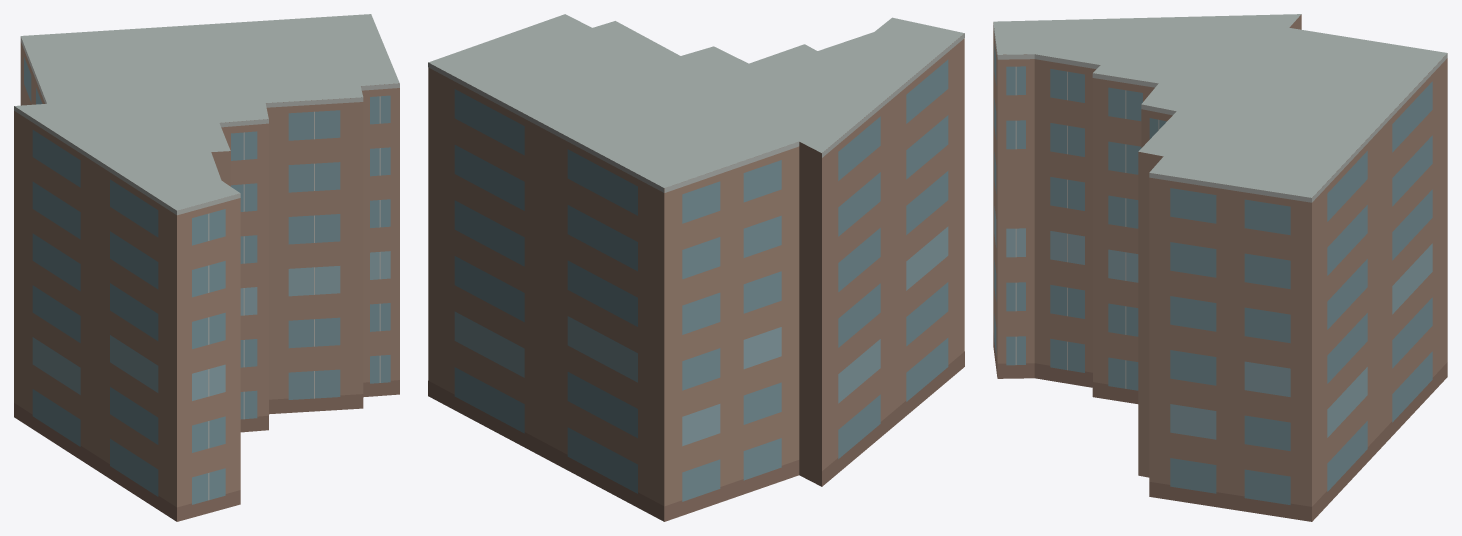
File: survey-upis-32673411.glb
3 views of the same model, side by side, from view 1: azimuth 30°, elevation 25°; view 2: azimuth 150°, elevation 25°; view 3: azimuth 270°, elevation 25° (orthographic). The views are drawn at different scales.
Visible parts, largest first — view 1: survey-upis-32673411.tmp; view 2: survey-upis-32673411.tmp; view 3: survey-upis-32673411.tmp.
Part boxes in pixels (x1=…): survey-upis-32673411.tmp: x1=14, y1=14, x2=399, y2=521; survey-upis-32673411.tmp: x1=428, y1=14, x2=964, y2=521; survey-upis-32673411.tmp: x1=993, y1=14, x2=1447, y2=521.
Bounding box in the file's own units: 20.1 × 16.5 × 20.98.
